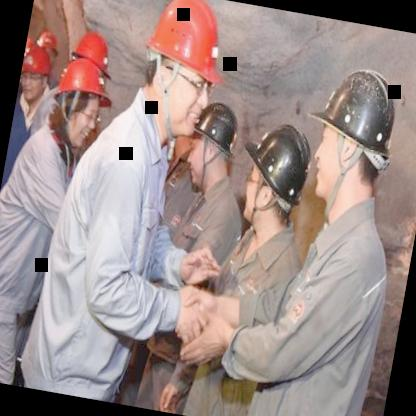helmet: (293, 54, 407, 219), (128, 0, 232, 139), (230, 113, 316, 229), (42, 57, 120, 150), (180, 96, 244, 192), (63, 24, 121, 95), (16, 41, 55, 103), (34, 27, 63, 68)
